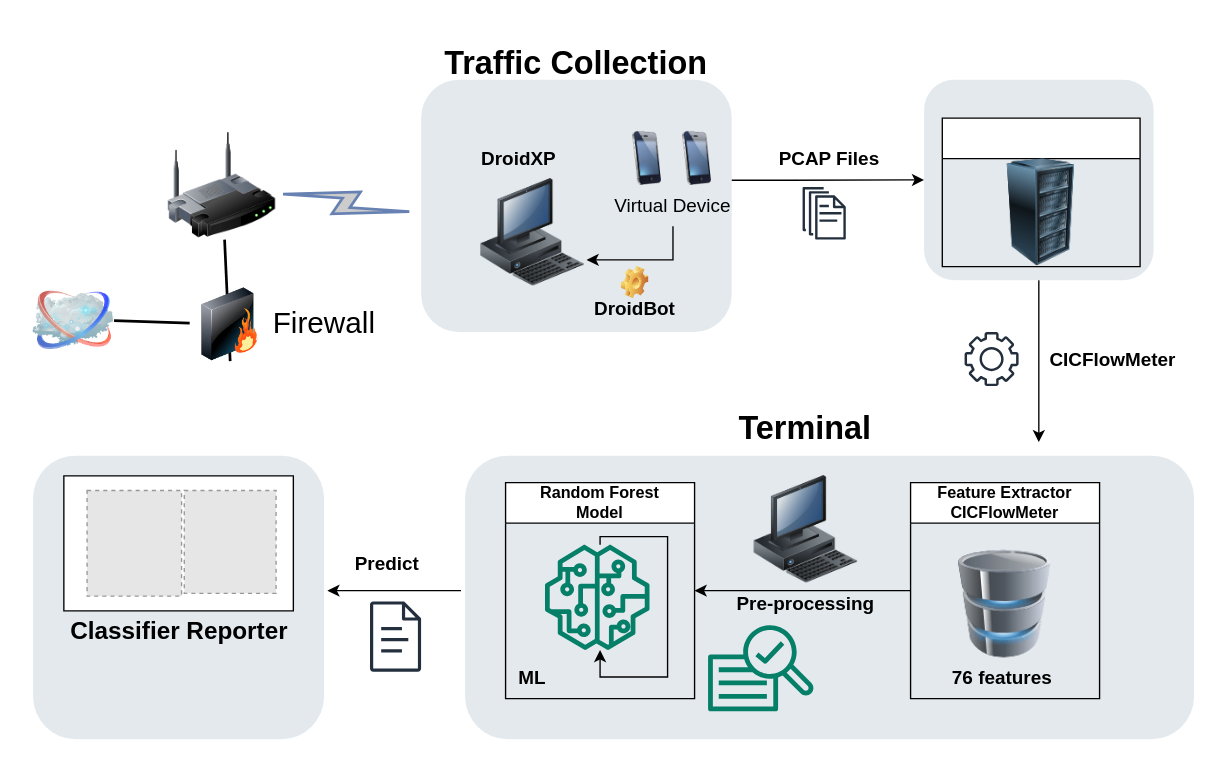
Some shapes in this 1218 by 761 pixel diagram are drawn without their labels. Grey dashed boxes stand in for pictures. Here are the shapes that lost their labels. From the top down, the box of each, then its label:
(941, 117, 1140, 267): Traffic Store
(32, 279, 113, 360): Internet
